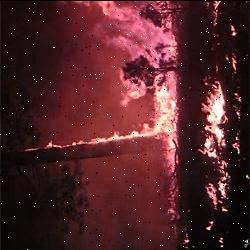fire: (28, 0, 179, 150), (187, 2, 250, 218)
